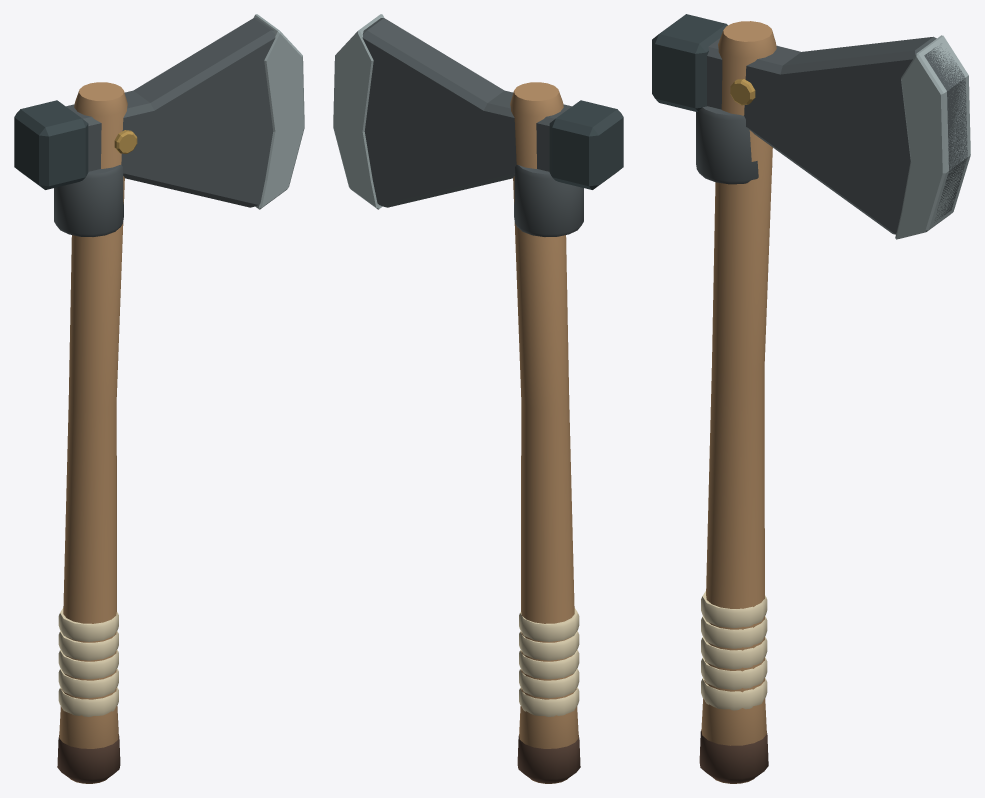
Rendered from tool_axe.glb.
3 renders of one model, left to right at view 1: azimuth 30°, elevation 25°; view 2: azimuth 150°, elevation 25°; view 3: azimuth 330°, elevation 25°, orthographic. The views are drawn at different scales.
Visible parts, largest first — view 1: tool_axe; view 2: tool_axe; view 3: tool_axe.
Boxes of the visible parts, box(x1,y1,x2,y2) form: tool_axe: box(14, 14, 304, 783); tool_axe: box(333, 14, 623, 783); tool_axe: box(652, 14, 970, 783).
Size of the model in its own units: 0.2975 by 0.7554 by 0.068.
